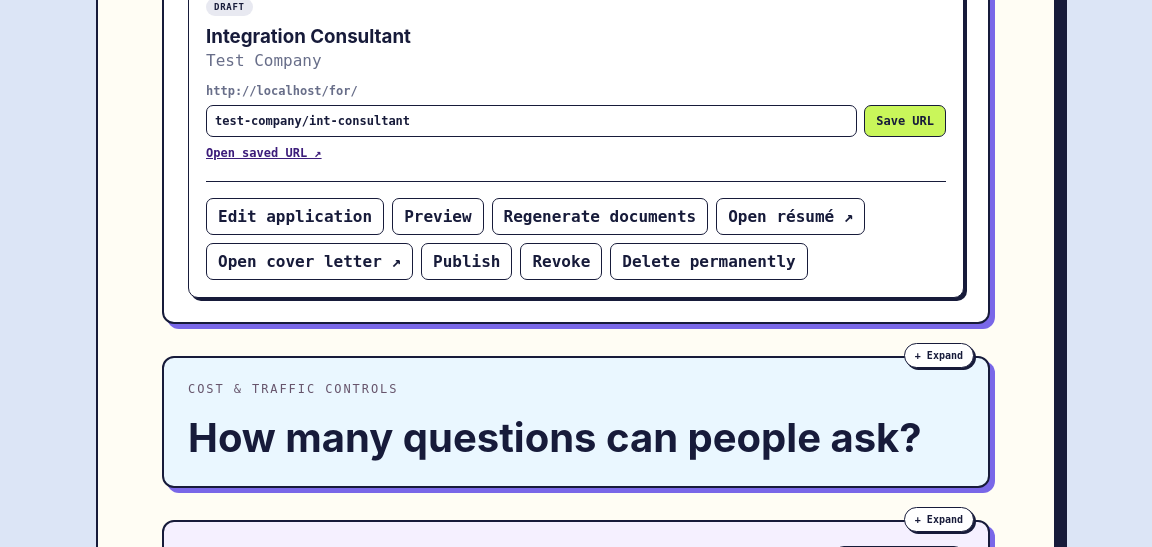
it: shows an application save error inside the editor
The image size is (1152, 547).
(page scrolled)
Click the button "Edit application": click(295, 217) [206,198,384,235]
(page scrolled)
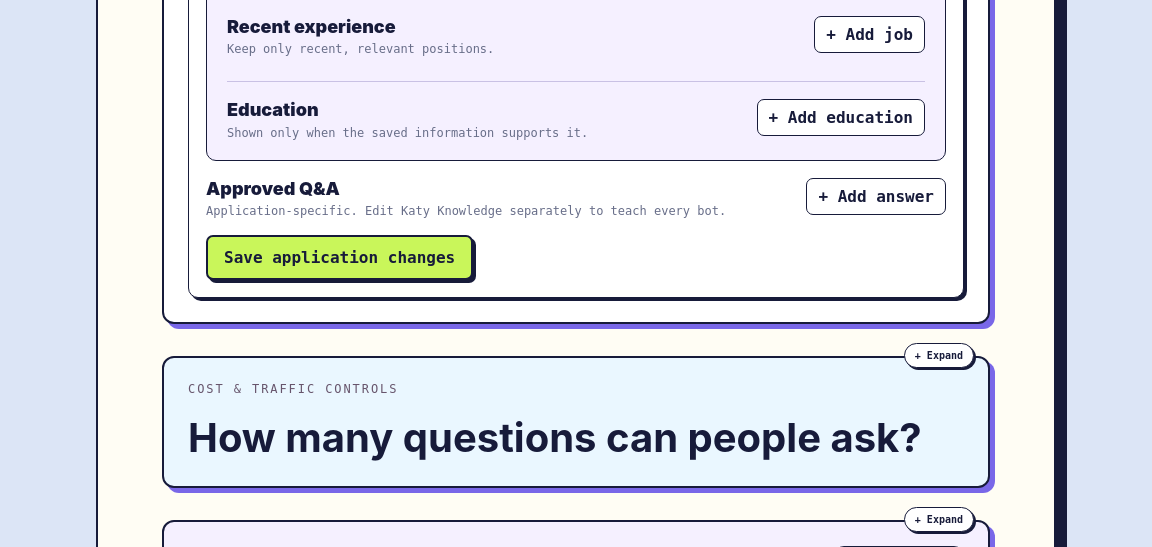
Click the button "Save application changes": click(340, 258) [206,236,473,280]
(page scrolled)
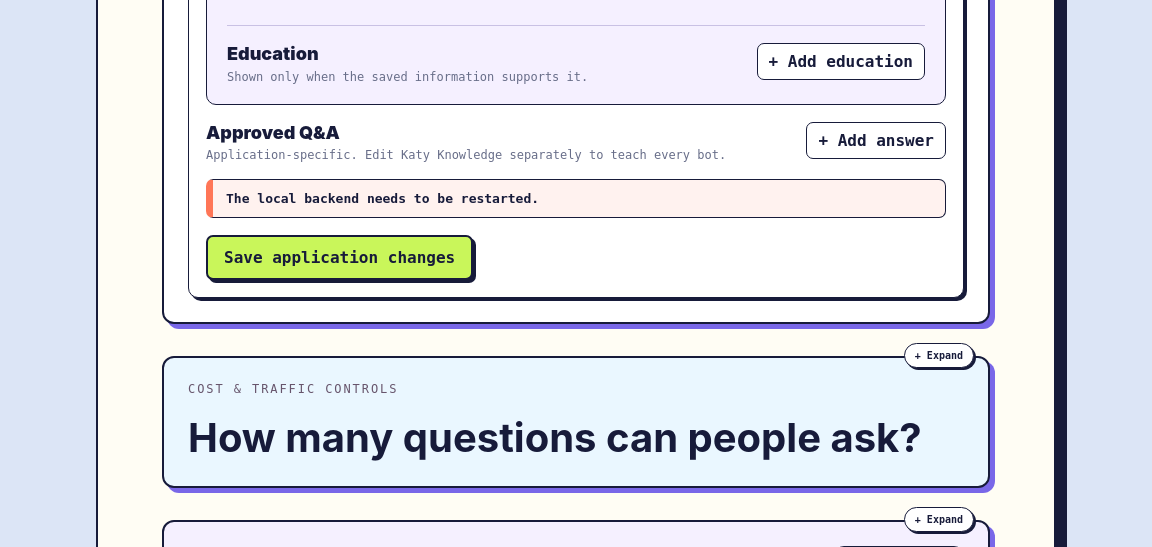
Now the button "Save application changes" is shown, box [206,236,473,280]
Now the message reads "The local backend needs to be restarted.", box [226,192,539,206]
